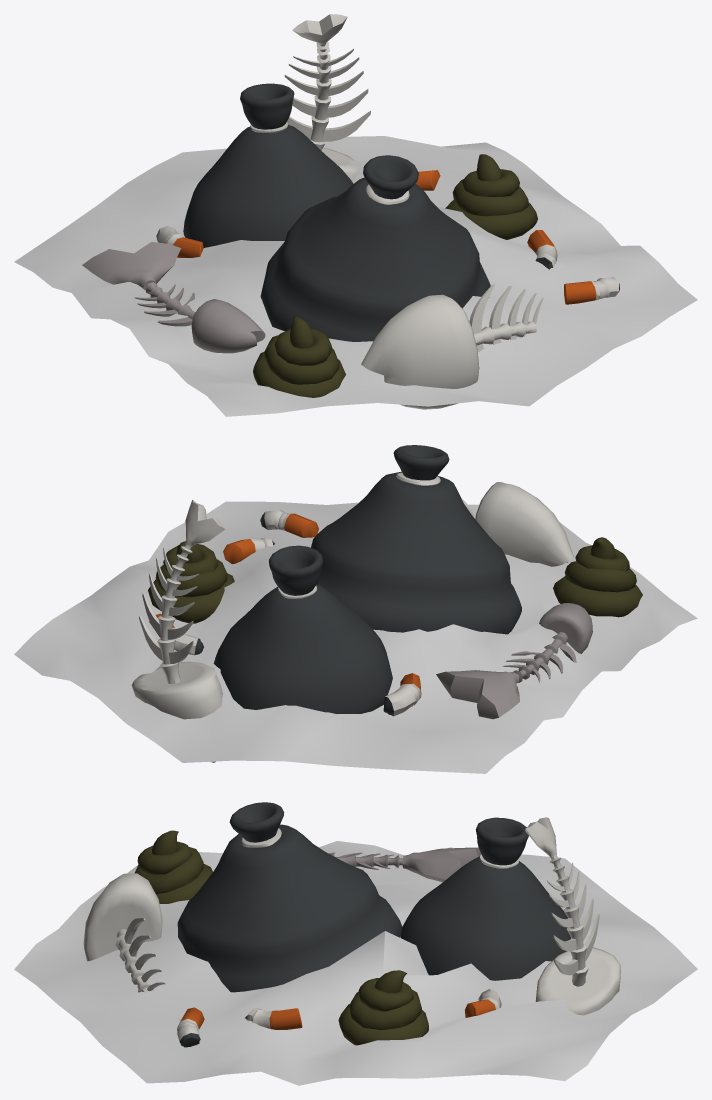
File: Basura_NoRecuperable.fbx
3 views of the same model, one above another, from view 1: azimuth 30°, elevation 25°; view 2: azimuth 150°, elevation 25°; view 3: azimuth 270°, elevation 25° (orthographic).
Visible parts, largest first — view 1: Basura_NoRecuperable; view 2: Basura_NoRecuperable; view 3: Basura_NoRecuperable.
Boxes of the visible parts, bbox=[...] form: Basura_NoRecuperable: bbox=[14, 14, 697, 416]; Basura_NoRecuperable: bbox=[14, 445, 697, 773]; Basura_NoRecuperable: bbox=[14, 802, 697, 1085].
Bounding box in the file's own units: 208 × 103 × 265.
